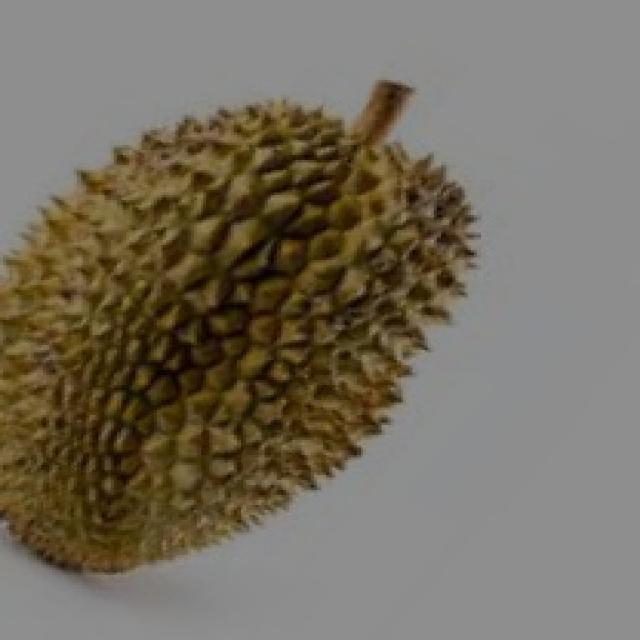fruit: (3, 235, 400, 617)
